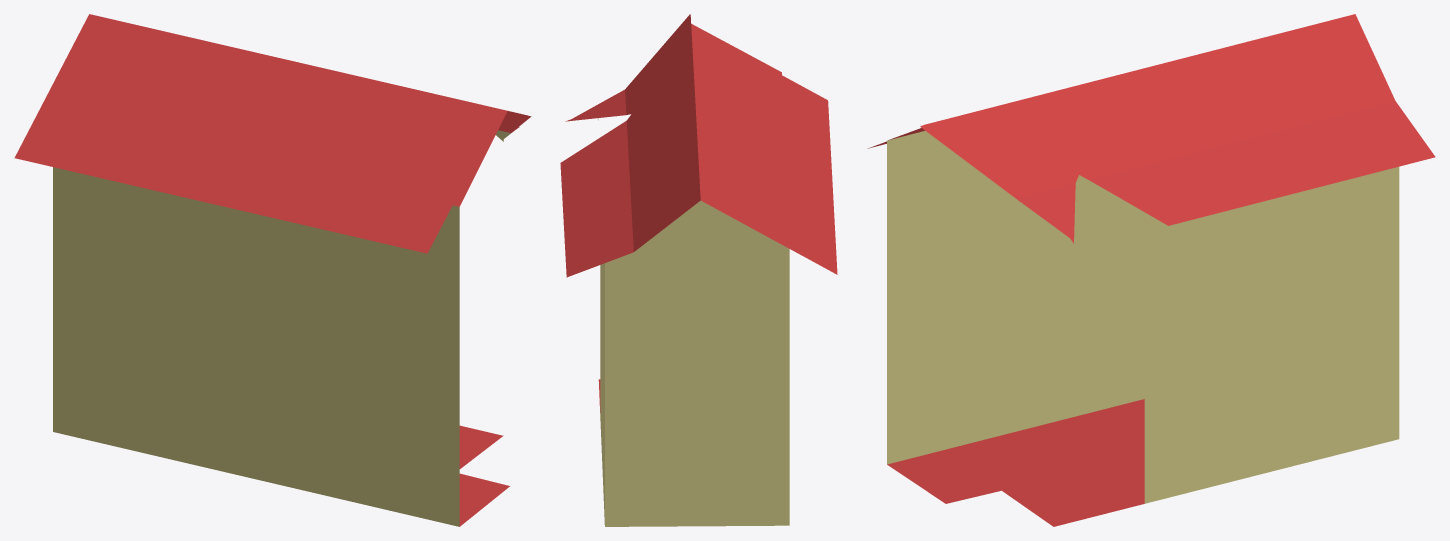
The picture shows the model from 3 angles, left to right: view 1: azimuth 30°, elevation 25°; view 2: azimuth 150°, elevation 25°; view 3: azimuth 270°, elevation 25°; orthographic projection. The views are drawn at different scales.
Size of the model in its own units: 21.95 by 26.13 by 19.34.
